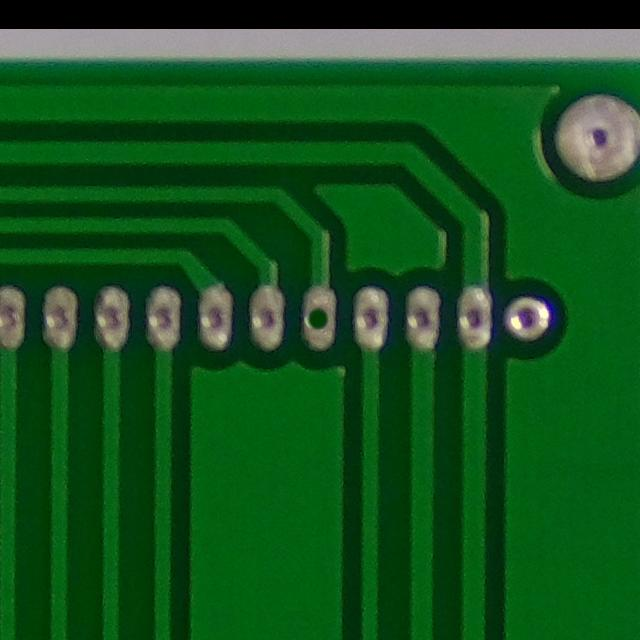missing_hole: (293, 284, 347, 350)
